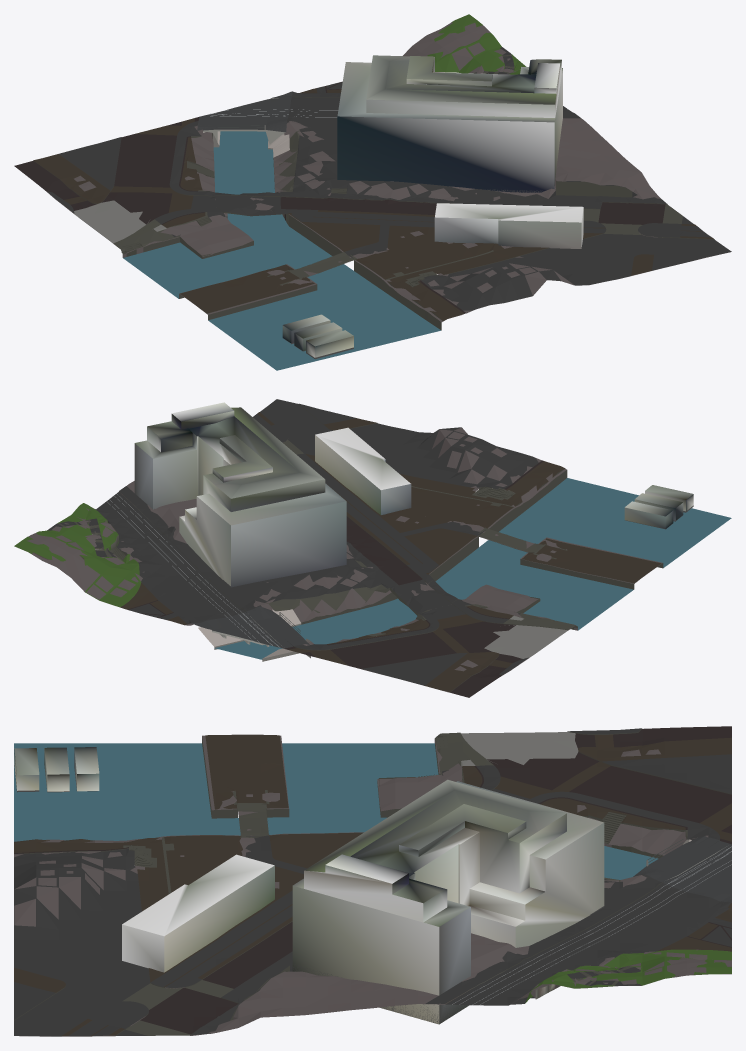
3 renders of one model, top to bottom at view 1: azimuth 30°, elevation 25°; view 2: azimuth 150°, elevation 25°; view 3: azimuth 270°, elevation 25°, orthographic. The views are drawn at different scales.
Visible parts, largest first — view 1: c_p02_p01, c_p02_p01_bridge_clipped_0; view 2: c_p02_p01, c_p02_p01_bridge_clipped_0; view 3: c_p02_p01.
Part boxes in pixels (bbox=[...]): c_p02_p01: bbox=[14, 14, 731, 370]; c_p02_p01_bridge_clipped_0: bbox=[193, 91, 303, 159]; c_p02_p01: bbox=[14, 399, 731, 697]; c_p02_p01_bridge_clipped_0: bbox=[185, 599, 314, 648]; c_p02_p01: bbox=[14, 726, 731, 1036].
Size of the model in its own units: 128 by 28.18 by 128.
